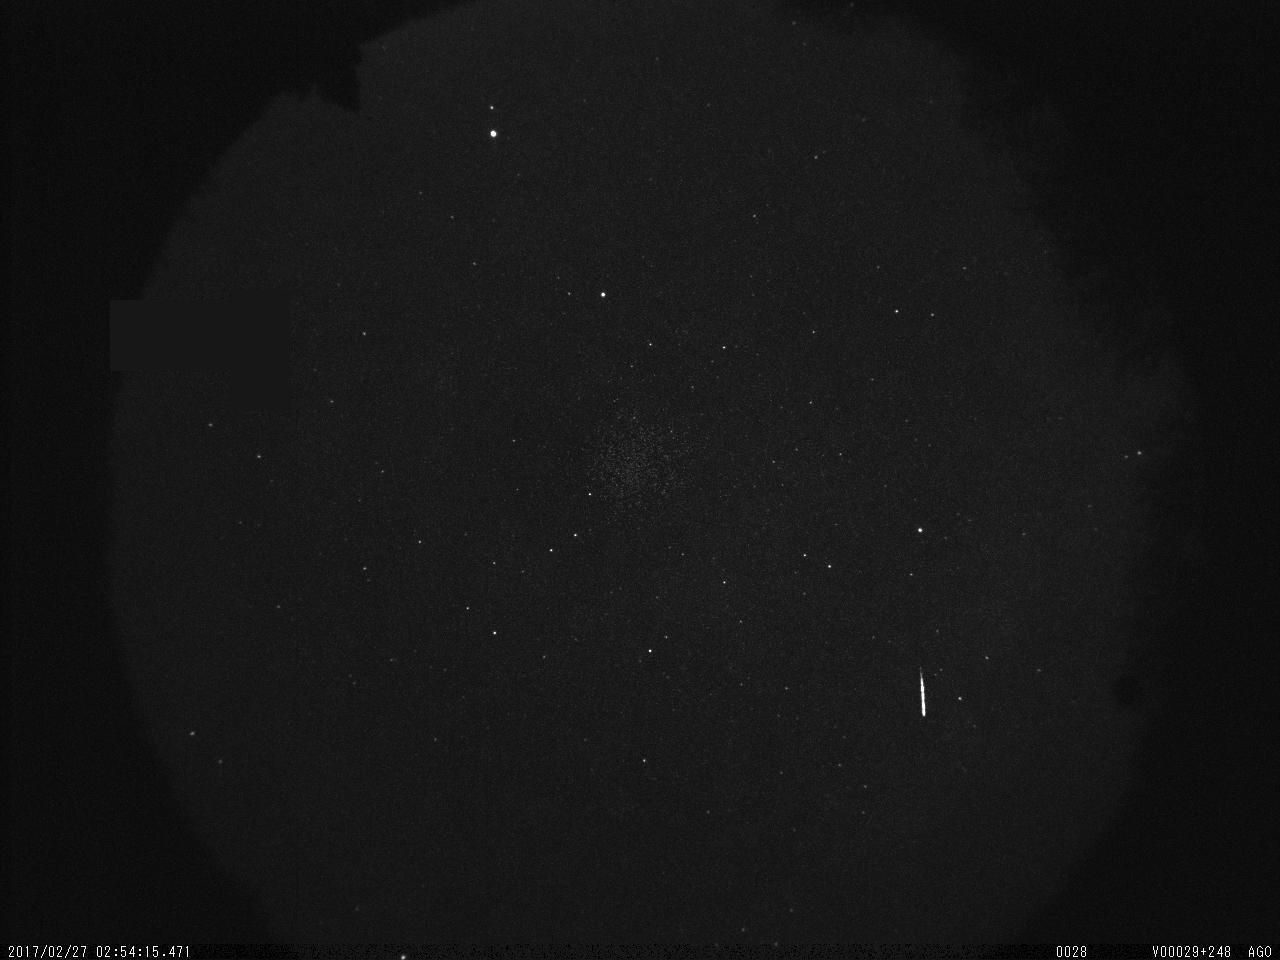Meteor: (915, 666, 928, 716)
